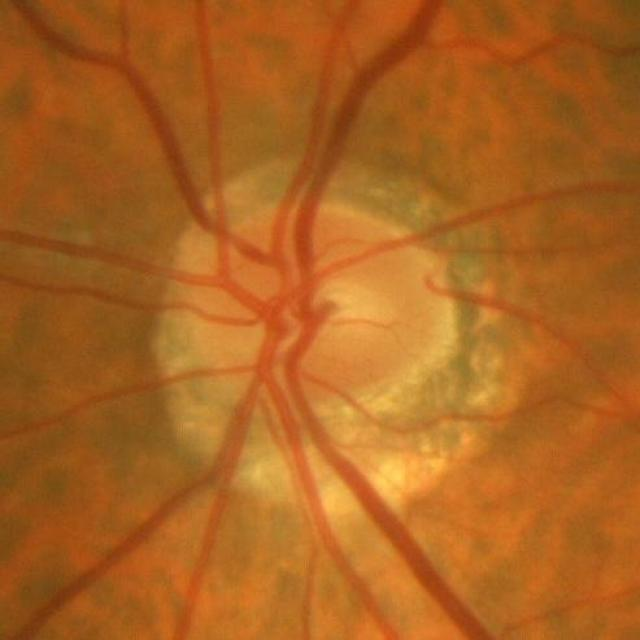OC: (261, 265, 392, 360)
OD: (176, 200, 462, 425)
